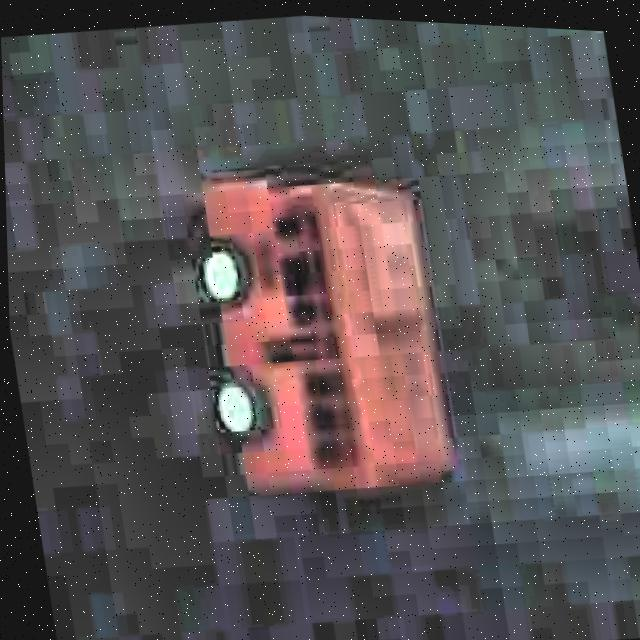bus: (163, 140, 472, 522)
